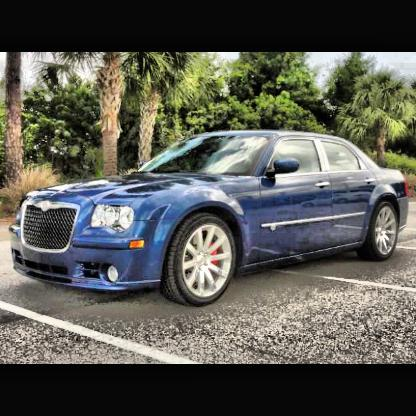Chrysler 300 SRT-8 2010: (10, 130, 411, 307)
